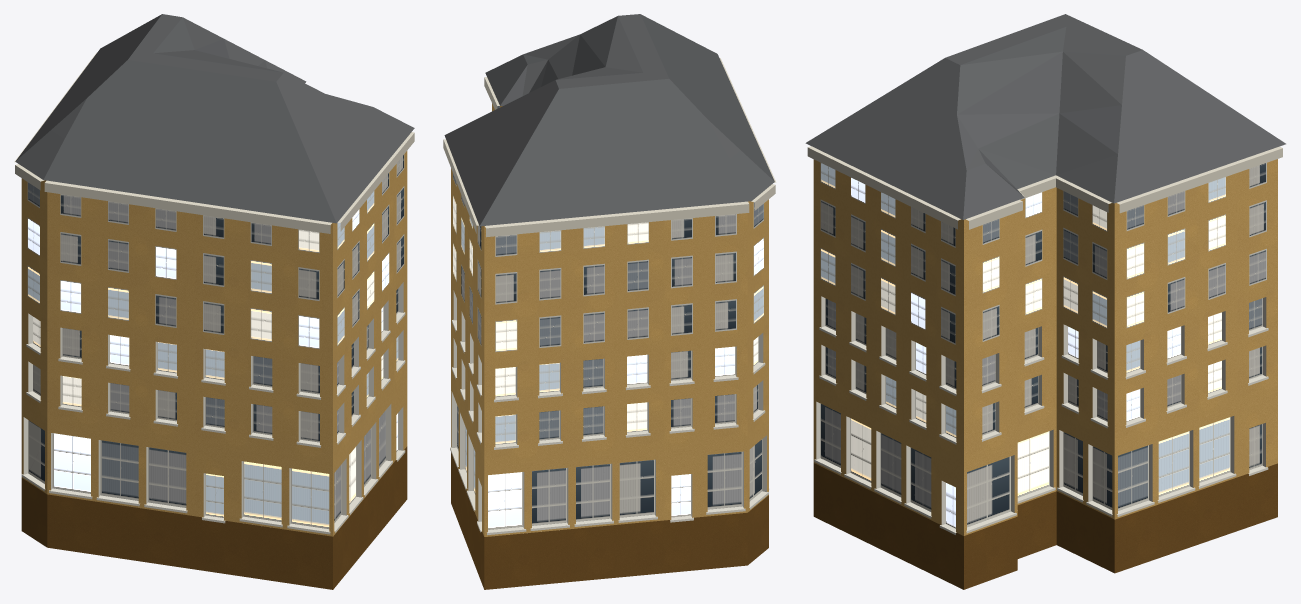
File: z4_zent78.glb
The picture shows the model from 3 angles, left to right: view 1: azimuth 30°, elevation 25°; view 2: azimuth 150°, elevation 25°; view 3: azimuth 270°, elevation 25°; orthographic projection.
Visible parts, largest first — view 1: z4_zent78; view 2: z4_zent78; view 3: z4_zent78.
Boxes of the visible parts, x1=… form: z4_zent78: x1=14, y1=14, x2=414, y2=589; z4_zent78: x1=443, y1=14, x2=776, y2=589; z4_zent78: x1=805, y1=14, x2=1285, y2=589.
Size of the model in its own units: 19.78 by 25.81 by 24.32.
3 materials, 3 textured.
